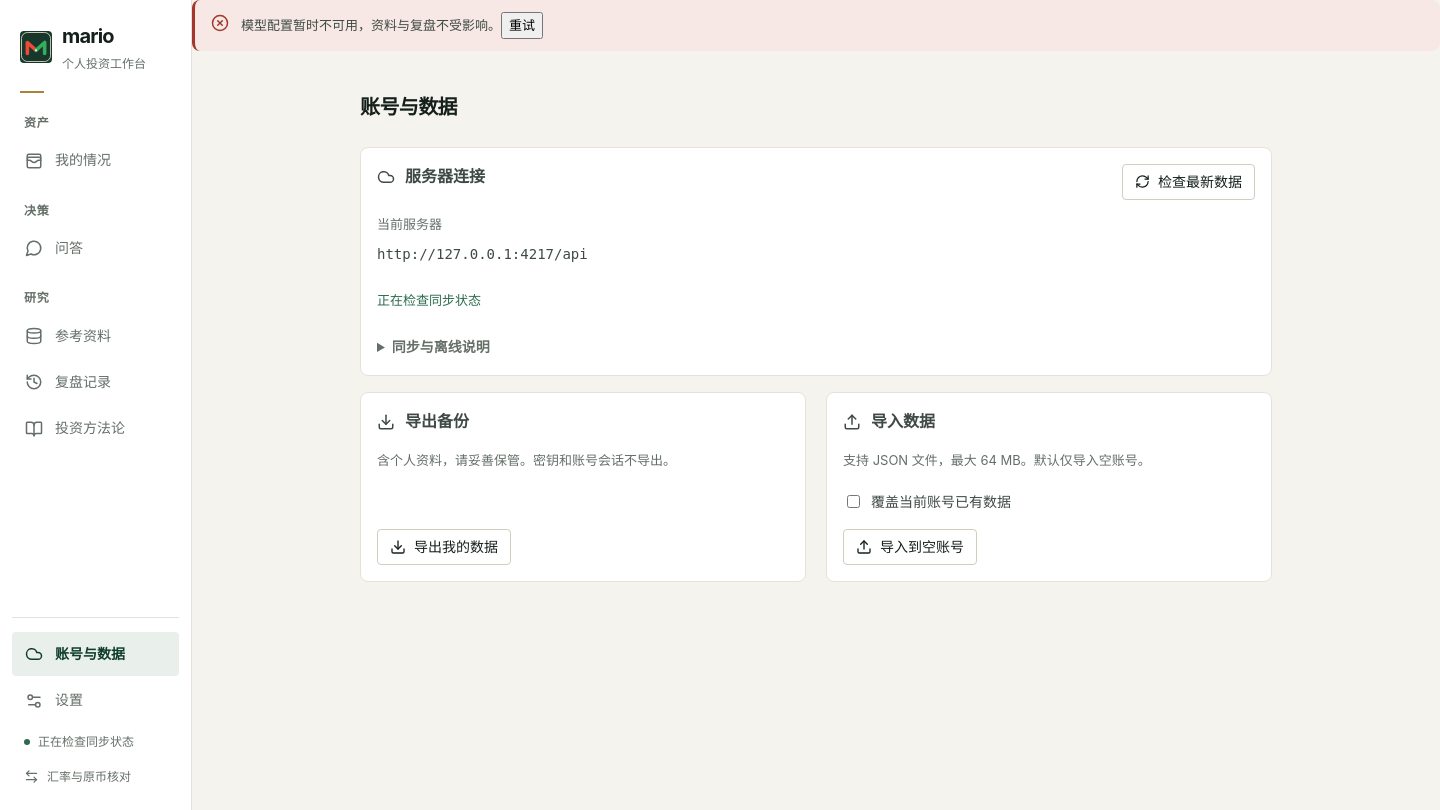
Test case: opens the investment methodology editor directly from the sidebar without a model
Click the button "投资方法论" at (96, 428), box 12,406 -> 179,451
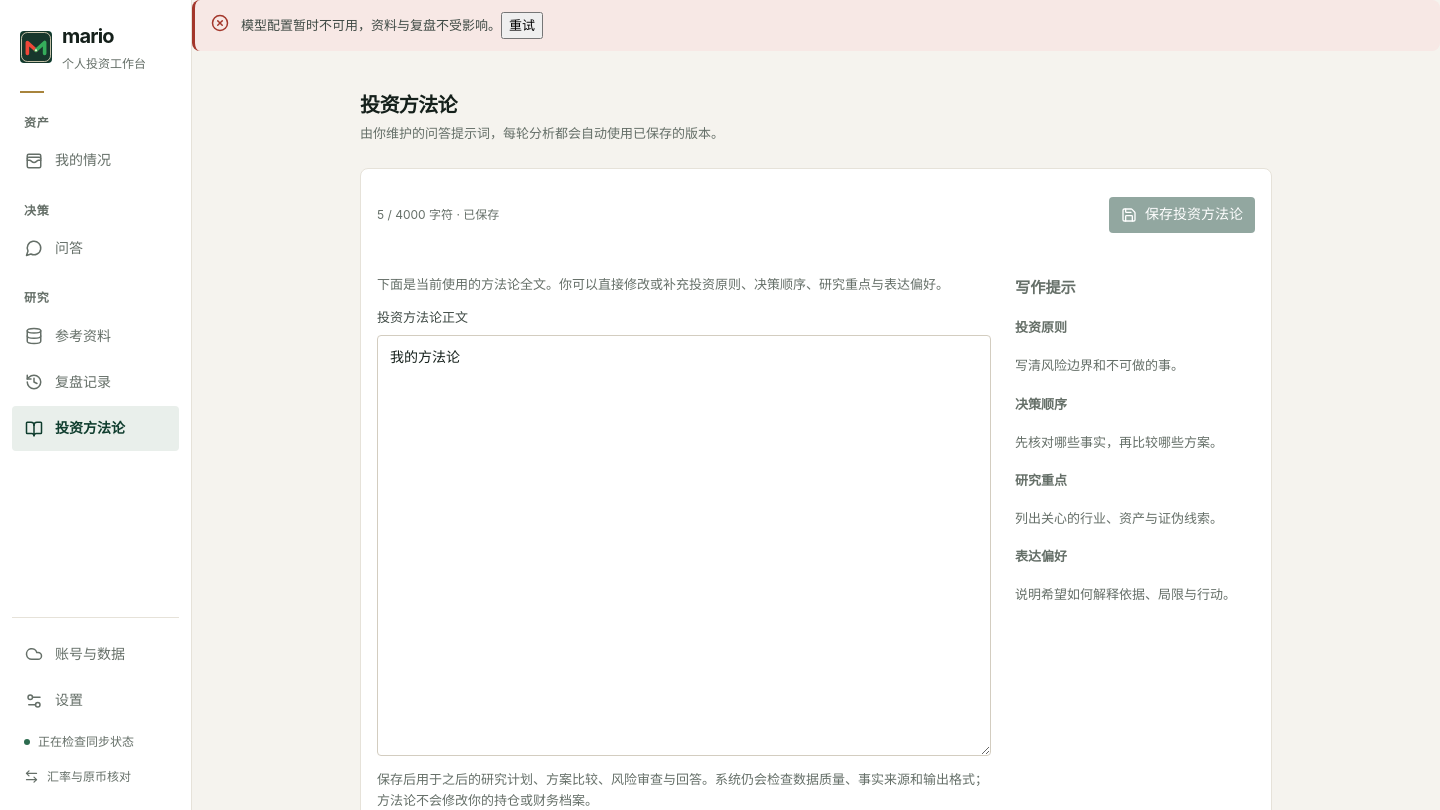
Result: the heading "投资方法论" is shown at 360,93 -> 457,117
Result: the text box labelled "投资方法论正文" holds "我的方法论" at 377,335 -> 991,756
